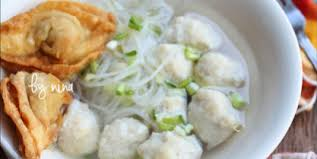bakso: (62, 10, 253, 153)
